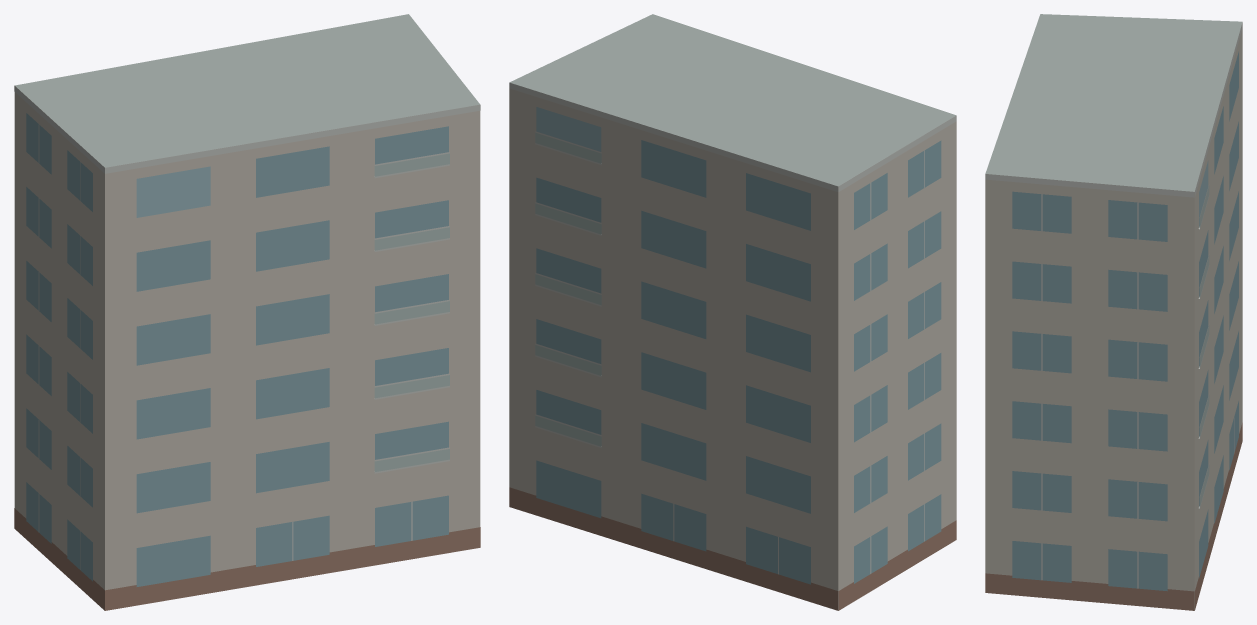
Rendered from survey-upis-32872110.glb.
3 views of the same model, side by side, from view 1: azimuth 30°, elevation 25°; view 2: azimuth 150°, elevation 25°; view 3: azimuth 270°, elevation 25° (orthographic). The views are drawn at different scales.
Visible parts, largest first — view 1: survey-upis-32872110.tmp; view 2: survey-upis-32872110.tmp; view 3: survey-upis-32872110.tmp.
Boxes of the visible parts, x1,y1,x2,y2 form: survey-upis-32872110.tmp: (14, 14, 480, 610); survey-upis-32872110.tmp: (509, 14, 956, 610); survey-upis-32872110.tmp: (985, 14, 1242, 610).
Bounding box in the file's own units: 16.31 × 17.9 × 9.98.
